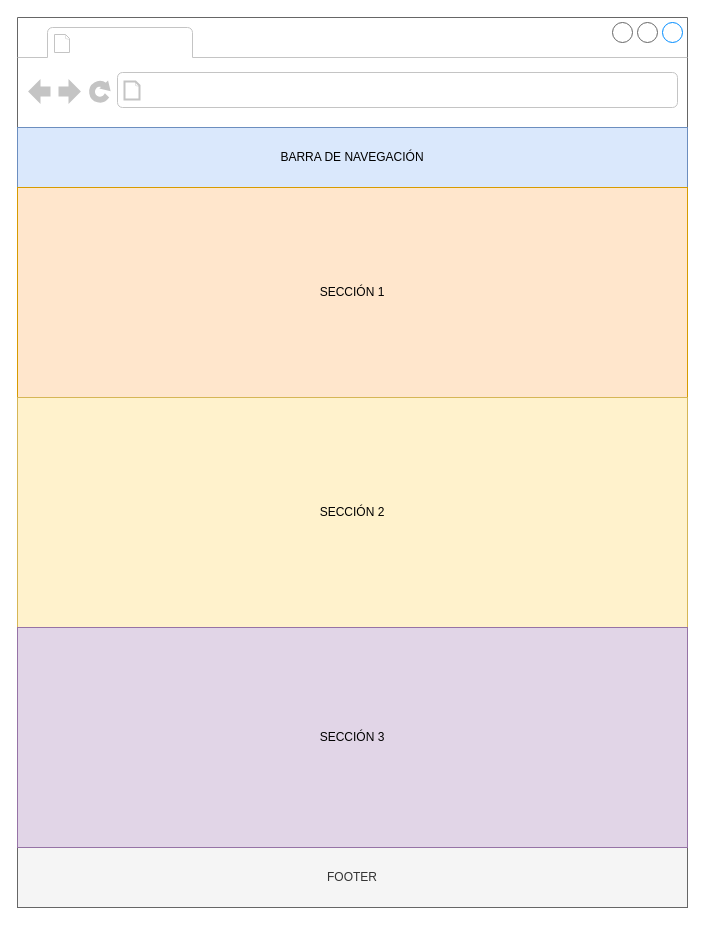
This 705x925 diagram has some shape labels left out. The centre of each missing label's shape, as x and y in pixels:
"https://www.draw.io" belongs at (272,90).
"Page 1" belongs at (132,42).
